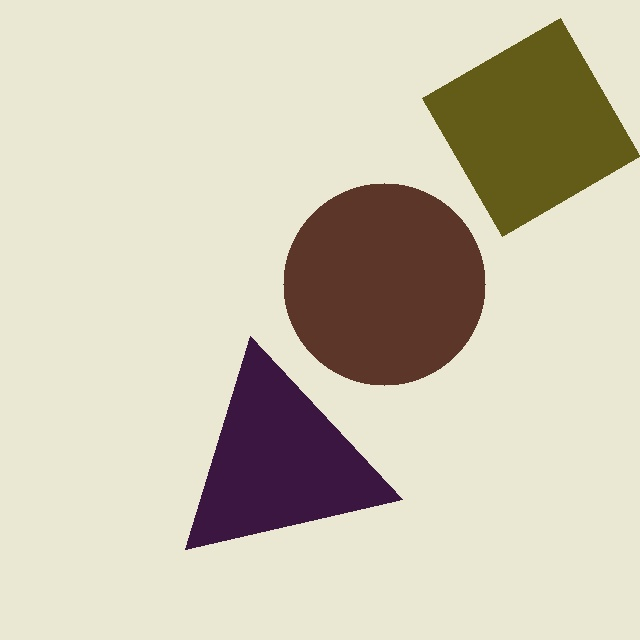circle: (282, 182, 486, 386)
square: (421, 17, 639, 236)
triangle: (185, 335, 403, 549)
